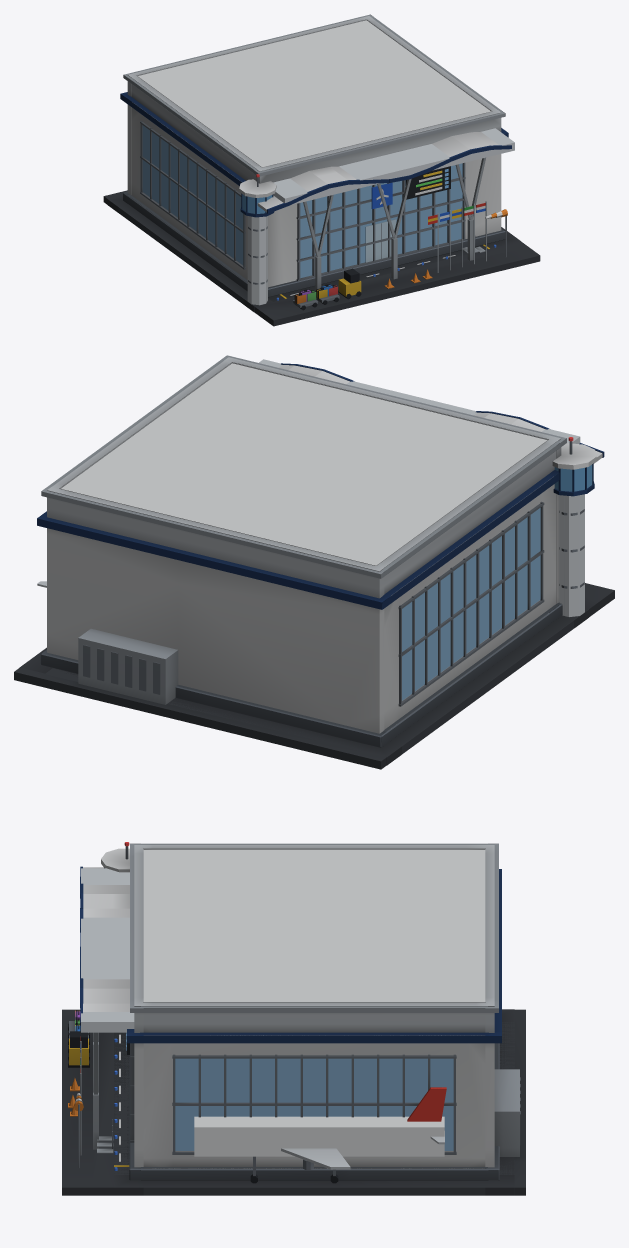
File: WalkingSuitcaseFloor.fbx
3 renders of one model, top to bottom at view 1: azimuth 30°, elevation 25°; view 2: azimuth 150°, elevation 25°; view 3: azimuth 270°, elevation 25°, orthographic. The views are drawn at different scales.
Visible parts, largest first — view 1: AP_S_All, AP_F_Smooth, AP_F_Rings, AP_F_Glass, AP_F_Quiet, AP_F_Props; view 2: AP_F_Rings, AP_S_All, AP_F_Smooth, AP_F_Quiet, AP_F_Glass, AP_F_Props; view 3: AP_S_All, AP_F_Rings, AP_F_Quiet, AP_F_Smooth, AP_F_Glass, AP_F_Props.
Boxes of the visible parts, x1,y1,x2,y2 form: AP_S_All: [108, 20, 514, 312]; AP_F_Smooth: [103, 14, 540, 326]; AP_F_Rings: [121, 14, 507, 287]; AP_F_Glass: [142, 125, 496, 300]; AP_F_Quiet: [104, 190, 539, 320]; AP_F_Props: [239, 132, 502, 303]; AP_F_Rings: [37, 355, 566, 733]; AP_S_All: [19, 359, 588, 765]; AP_F_Smooth: [14, 356, 614, 769]; AP_F_Quiet: [14, 583, 614, 761]; AP_F_Glass: [402, 437, 592, 700]; AP_F_Props: [279, 365, 601, 469]; AP_S_All: [81, 849, 514, 1195]; AP_F_Rings: [127, 843, 519, 1168]; AP_F_Quiet: [62, 1009, 525, 1187]; AP_F_Smooth: [62, 843, 525, 1195]; AP_F_Glass: [114, 842, 453, 1170]; AP_F_Props: [69, 848, 306, 1160].
Size of the model in its own units: 60 by 20 by 60.
